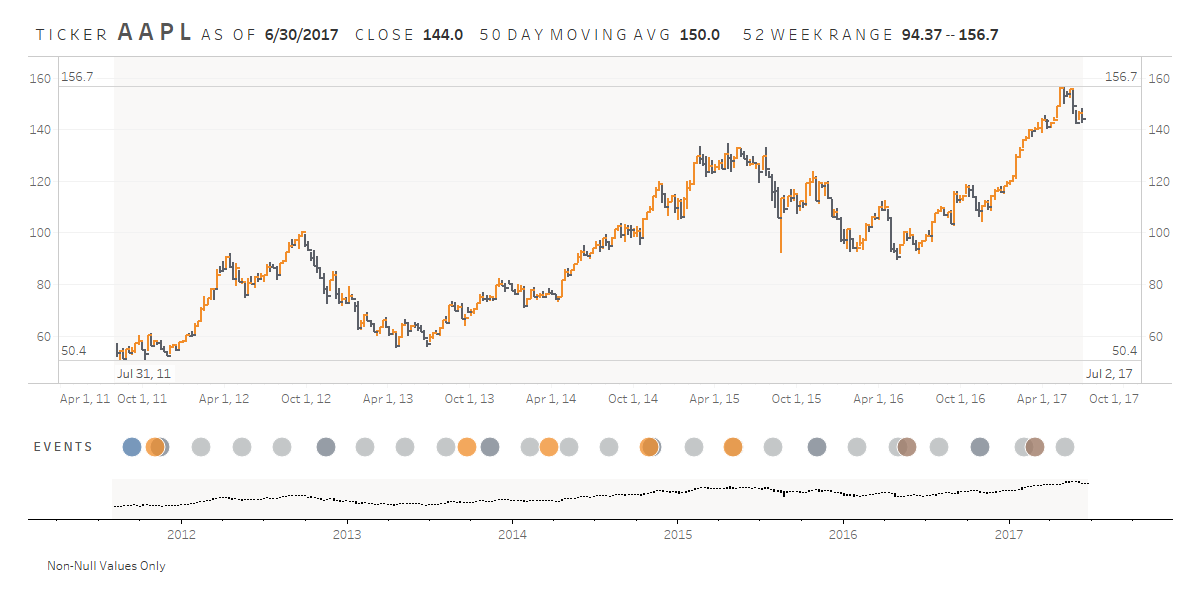

This screenshot's page, from the dashboard's own definition file:
{"tool":"tableau","page":{"name":"AAPL","canvas":[1200,600],"ordinal":0},"visuals":[{"type":"blank","box":[0,0,16.1,600]},{"type":"worksheet","title":"A A P L","mark":"GanttBar","cols":["Date"],"box":[16.1,0,1167.7,424.6]},{"type":"blank","box":[1183.9,0,16.1,600]},{"type":"worksheet","title":"Events","mark":"Circle","rows":["Calculation_2472616989484146696"],"cols":["Filing Date (Events1)","Filing Date"],"box":[16.1,424.6,1167.7,57]},{"type":"worksheet","title":"Timeline","mark":"GanttBar","rows":["Calculation_63402295138709508","High 1 LOD (copy 2)"],"cols":["Date (AAPL Ticker Feed1)","Date"],"box":[16.1,481.7,1167.7,78]},{"type":"blank","box":[0,485.8,1201.1,70.1]},{"type":"blank","box":[16.1,559.7,16.1,27.3]},{"type":"filter","title":"A A P L","param":"[federated.0w2yign08rxx1g1b3dqro0cys7sr].[none:Date:qk]","box":[32.3,559.7,1135.5,27.3]},{"type":"blank","box":[1167.7,559.7,16.1,27.3]},{"type":"blank","box":[16.1,587,1167.7,13]}]}

Visuals, with their boxes in screenshot pixels (x1, y1, x2, y2), scaled from the page's 1200x600 canvas onto the 1199x599 screenshot:
blank: x1=0 y1=0 x2=16 y2=598
"A A P L" worksheet (GanttBar marks): x1=16 y1=0 x2=1183 y2=424
blank: x1=1183 y1=0 x2=1198 y2=598
"Events" worksheet (Circle marks): x1=16 y1=424 x2=1183 y2=481
"Timeline" worksheet (GanttBar marks): x1=16 y1=481 x2=1183 y2=559
blank: x1=0 y1=485 x2=1198 y2=555
blank: x1=16 y1=559 x2=32 y2=586
"A A P L" filter: x1=32 y1=559 x2=1167 y2=586
blank: x1=1167 y1=559 x2=1183 y2=586
blank: x1=16 y1=586 x2=1183 y2=598
